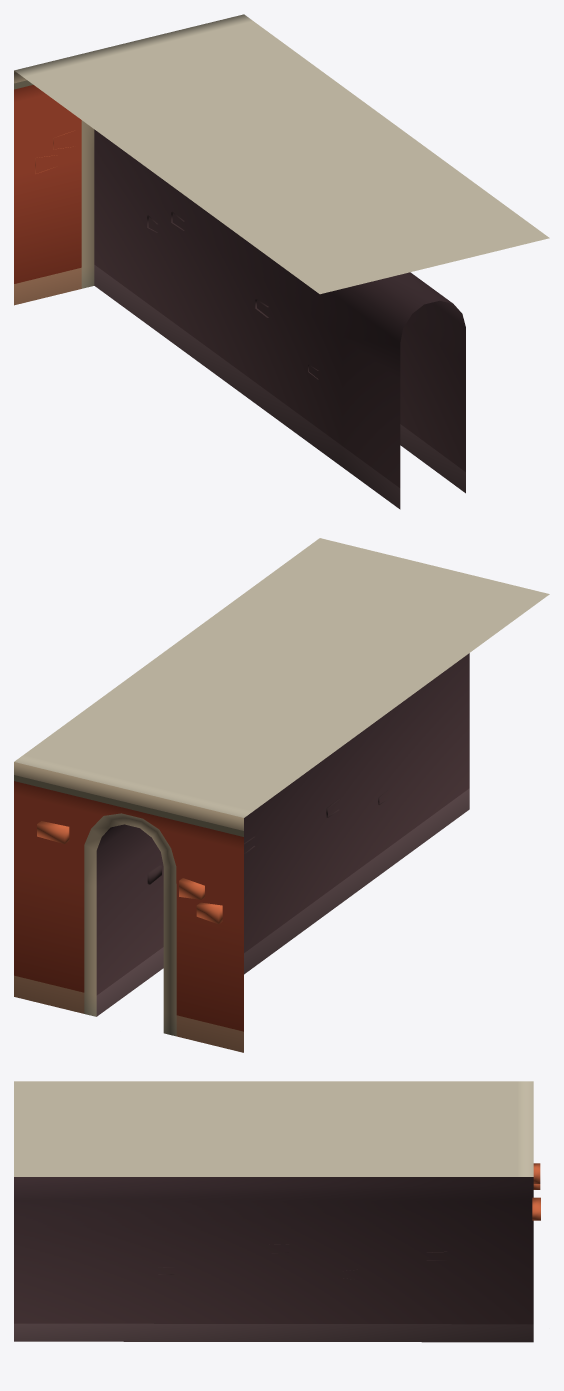
File: CityArch_Middle.fbx
3 views of the same model, one above another, from view 1: azimuth 30°, elevation 25°; view 2: azimuth 150°, elevation 25°; view 3: azimuth 270°, elevation 25° (orthographic). The views are drawn at different scales.
Parts seen in each view (by area): view 1: CityArch_Middle; view 2: CityArch_Middle; view 3: CityArch_Middle.
Part boxes in pixels (x1,y1,x2,y2): CityArch_Middle: (14, 14, 549, 509); CityArch_Middle: (14, 538, 549, 1052); CityArch_Middle: (14, 1081, 540, 1342).
Bounding box in the file's own units: 421 × 411 × 1000.
